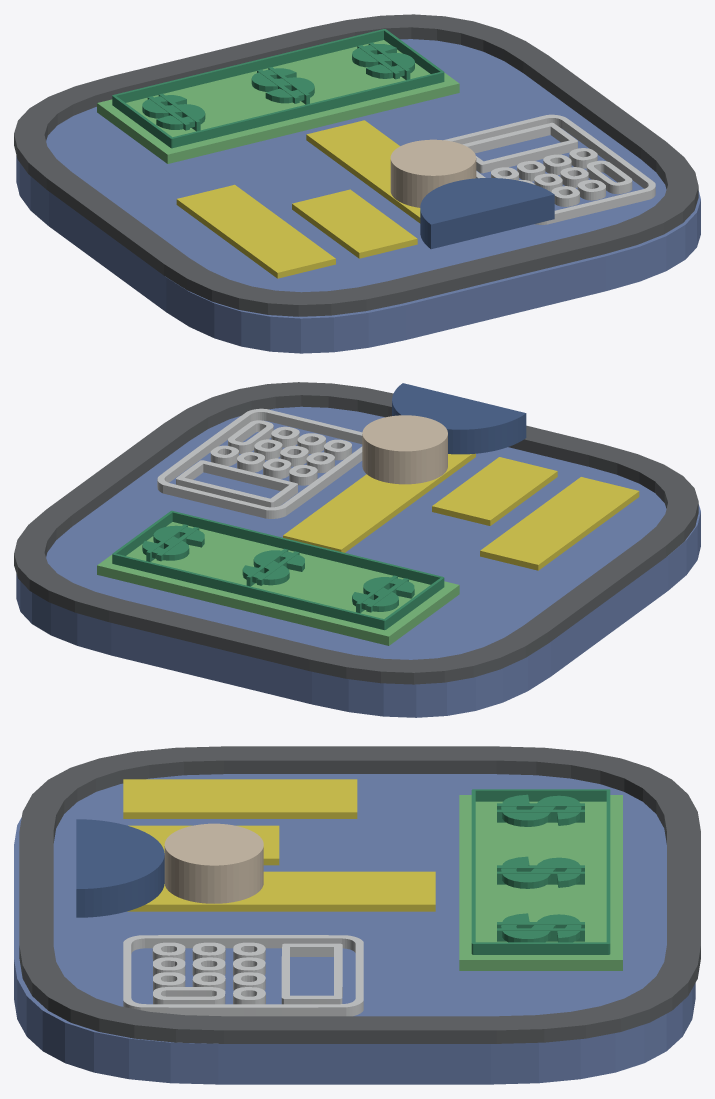
The model's file is model_irpf.glb.
3 renders of one model, top to bottom at view 1: azimuth 30°, elevation 25°; view 2: azimuth 150°, elevation 25°; view 3: azimuth 270°, elevation 25°, orthographic. The views are drawn at different scales.
Visible parts, largest first — view 1: Mesh_Mesh_head_geo.001_lambert2SG.001; view 2: Mesh_Mesh_head_geo.001_lambert2SG.001; view 3: Mesh_Mesh_head_geo.001_lambert2SG.001.
Boxes of the visible parts, x1,y1,x2,y2 form: Mesh_Mesh_head_geo.001_lambert2SG.001: (14,14,700,353); Mesh_Mesh_head_geo.001_lambert2SG.001: (14,382,700,717); Mesh_Mesh_head_geo.001_lambert2SG.001: (14,746,700,1084).
Size of the model in its own units: 0.045 by 0.00915 by 0.046.
